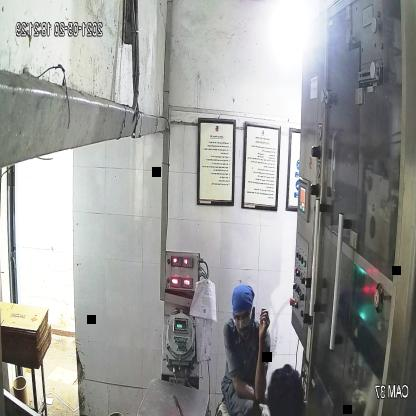goggles: (232, 308, 256, 328)
